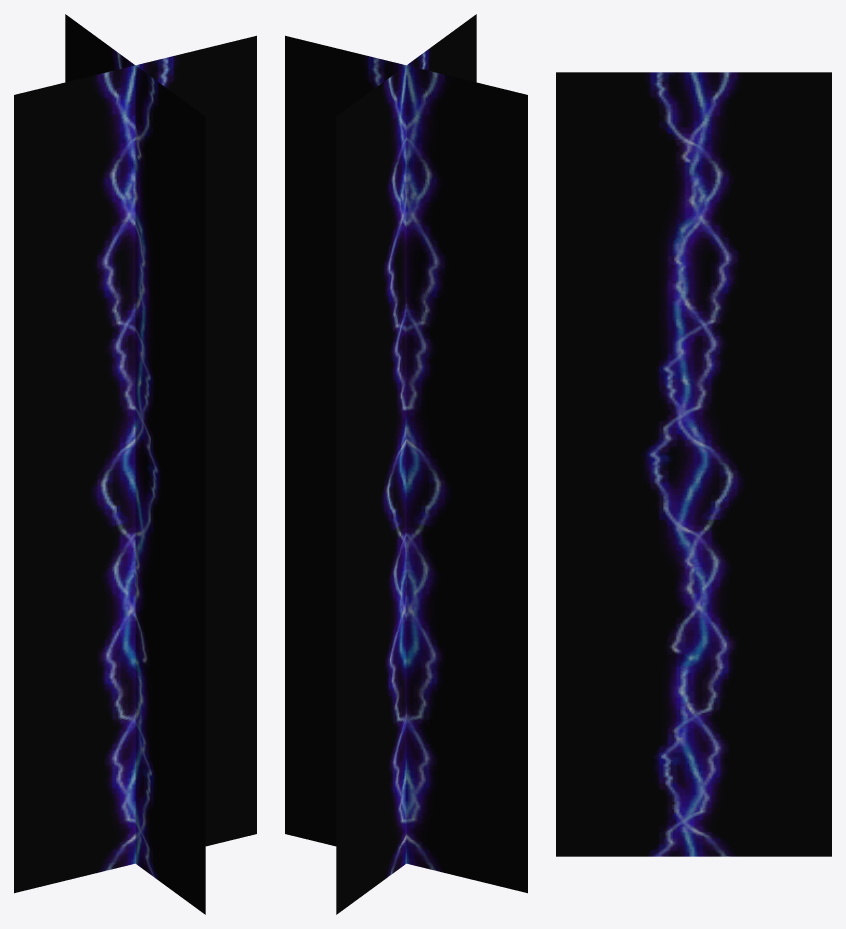
Rendered from Beam3.FBX.
3 views of the same model, side by side, from view 1: azimuth 30°, elevation 25°; view 2: azimuth 150°, elevation 25°; view 3: azimuth 270°, elevation 25° (orthographic).
Visible parts, largest first — view 1: Beam3; view 2: Beam3; view 3: Beam3.
Boxes of the visible parts, left/top/right/bottom form: Beam3: left=14, top=14, right=256, bottom=914; Beam3: left=285, top=14, right=527, bottom=914; Beam3: left=556, top=72, right=831, bottom=856.
Bounding box in the file's own units: 80 × 251 × 80.
1 material, 1 textured.
